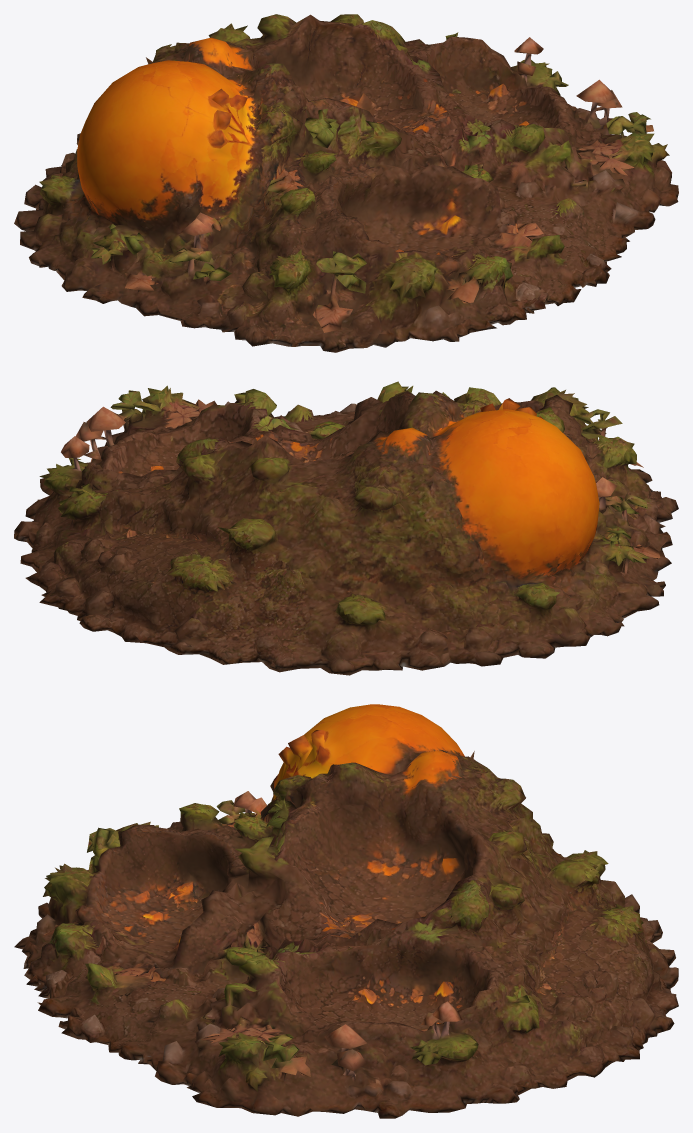
3 views of the same model, one above another, from view 1: azimuth 30°, elevation 25°; view 2: azimuth 150°, elevation 25°; view 3: azimuth 270°, elevation 25° (orthographic). The views are drawn at different scales.
Parts seen in each view (by area): view 1: amber_deposit_two_thirds_painted; view 2: amber_deposit_two_thirds_painted; view 3: amber_deposit_two_thirds_painted.
Part boxes in pixels (box(x1,y1,x2,y2)): amber_deposit_two_thirds_painted: box(14, 14, 678, 352); amber_deposit_two_thirds_painted: box(14, 381, 678, 675); amber_deposit_two_thirds_painted: box(14, 704, 678, 1118).
Bounding box in the file's own units: 6.6 × 1.86 × 6.28.
Materials: 1 (1 with a texture image).
